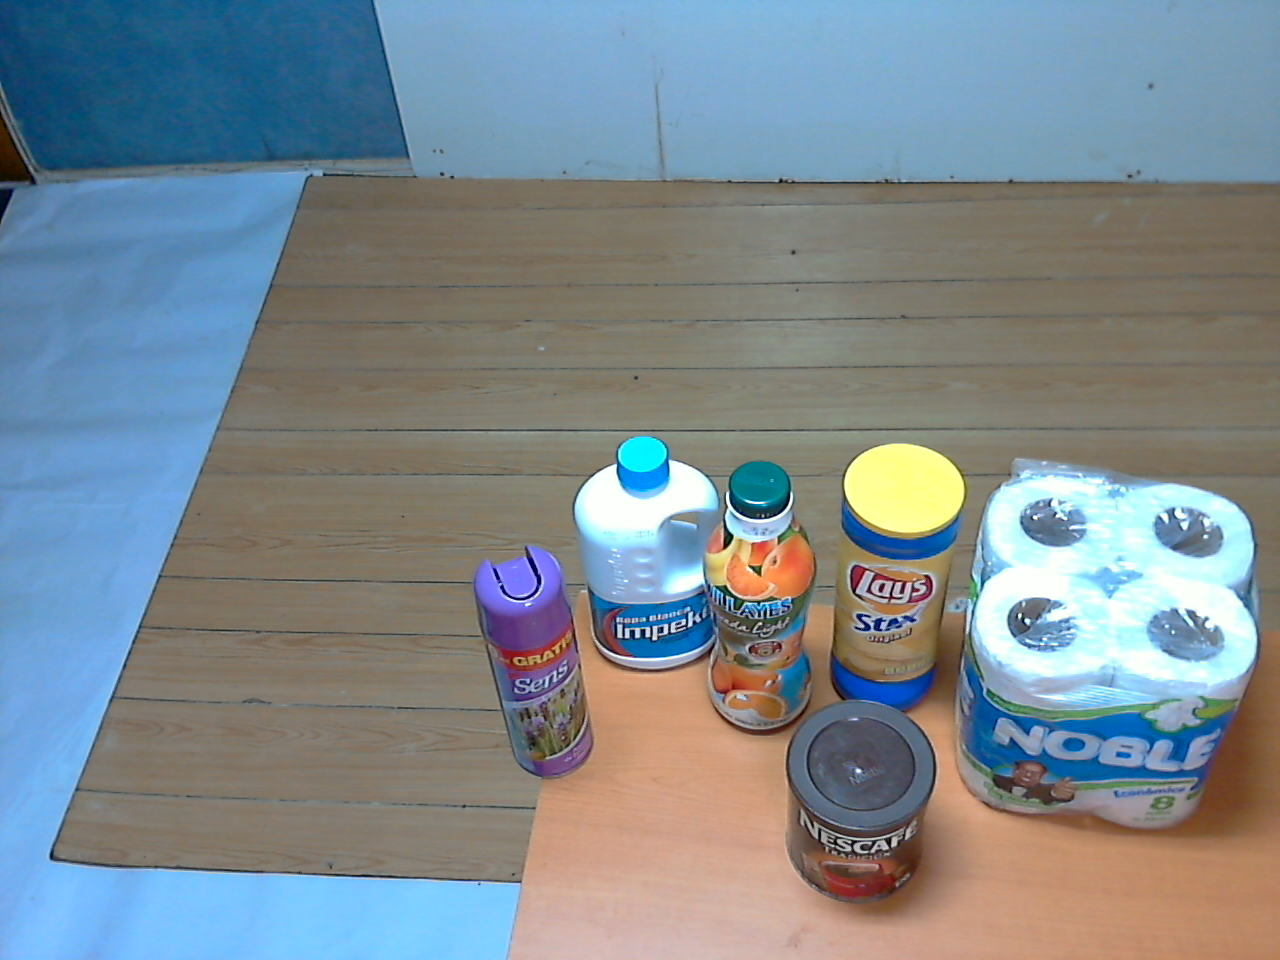aerosol: (454, 535, 611, 782)
cafe: (782, 694, 944, 908)
cloro: (566, 434, 741, 686)
confort: (946, 453, 1259, 850)
papas: (820, 430, 973, 712)
yogurt: (695, 451, 827, 739)
